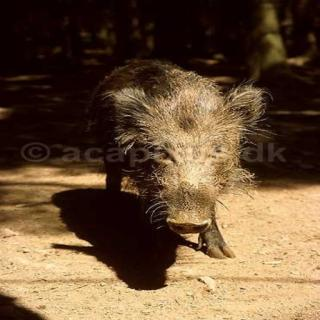Pig: (86, 64, 298, 280)
